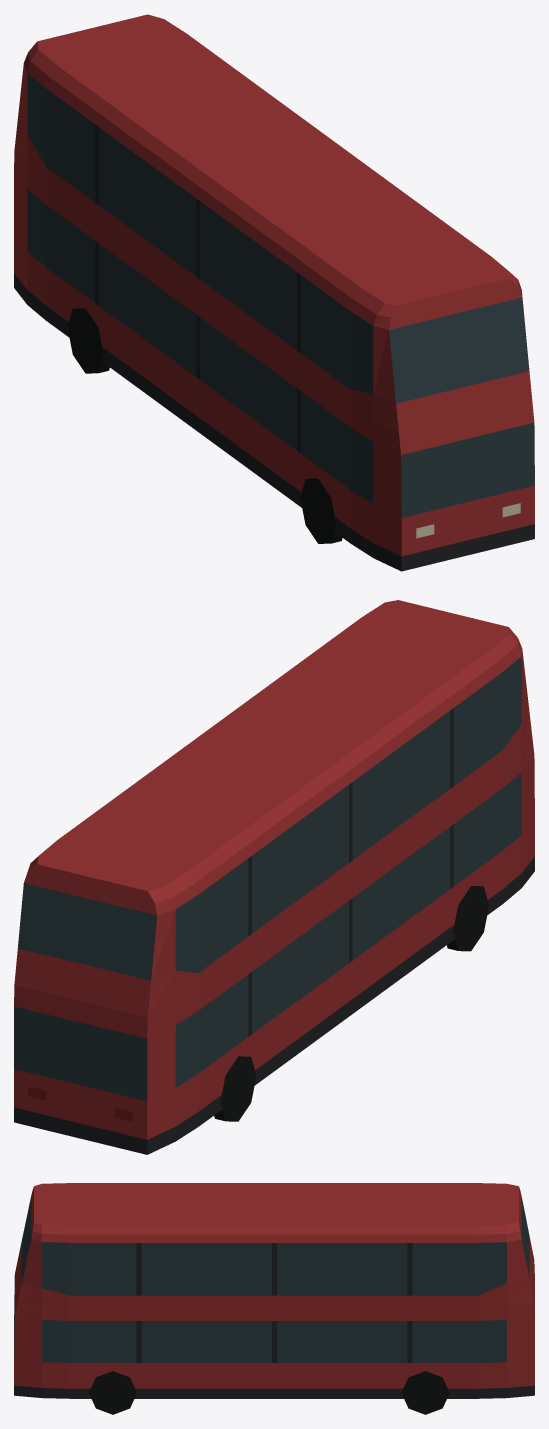
Rendered from bussi-1-routemaster.glb.
3 views of the same model, one above another, from view 1: azimuth 30°, elevation 25°; view 2: azimuth 150°, elevation 25°; view 3: azimuth 270°, elevation 25° (orthographic). The views are drawn at different scales.
Visible parts, largest first — view 1: bussi-1-routemaster; view 2: bussi-1-routemaster; view 3: bussi-1-routemaster.
Part boxes in pixels (x1=…): bussi-1-routemaster: x1=14, y1=14, x2=534, y2=571; bussi-1-routemaster: x1=14, y1=600, x2=534, y2=1154; bussi-1-routemaster: x1=14, y1=1183, x2=534, y2=1414.
Bounding box in the file's own units: 2.55 × 4.4 × 11.2.
